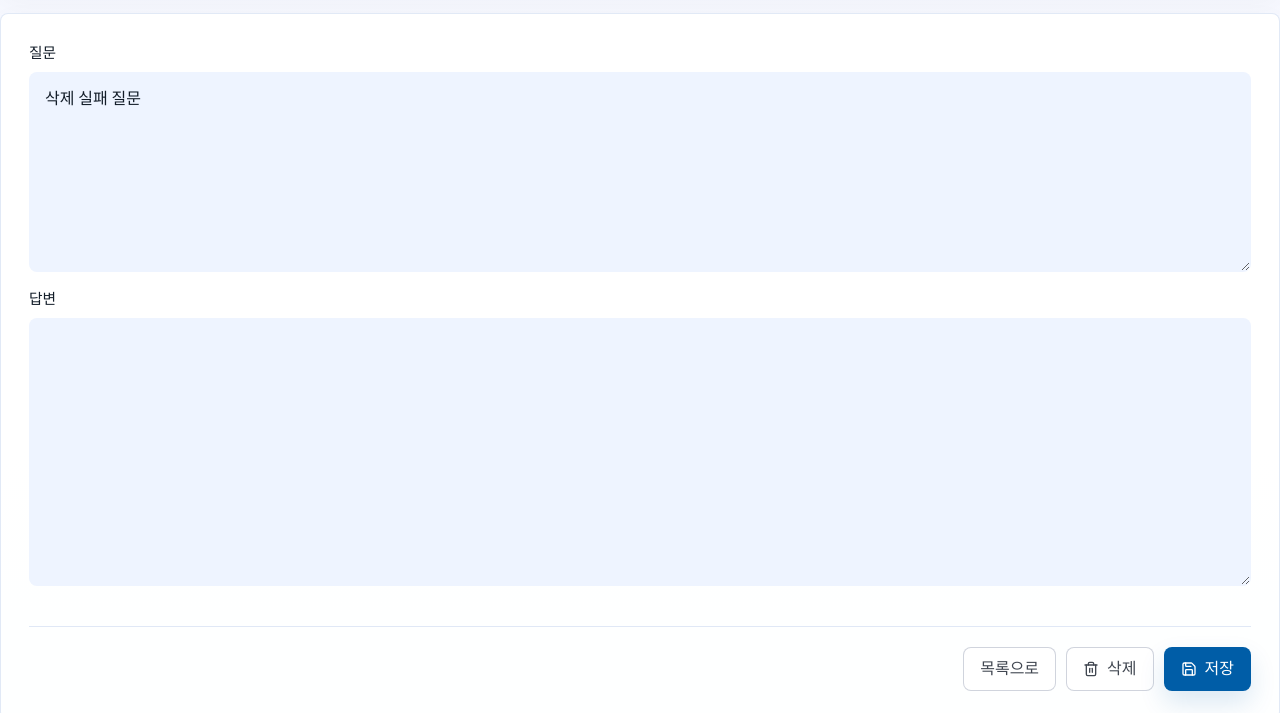
Scenario: AdminMemoDetailPage › should_show_error_message_when_delete_request_fails
The width and height of the screenshot is (1280, 713).
(page scrolled)
Click the button "삭제". click: (1110, 669)
box: x1=1066 y1=647 x2=1154 y2=691
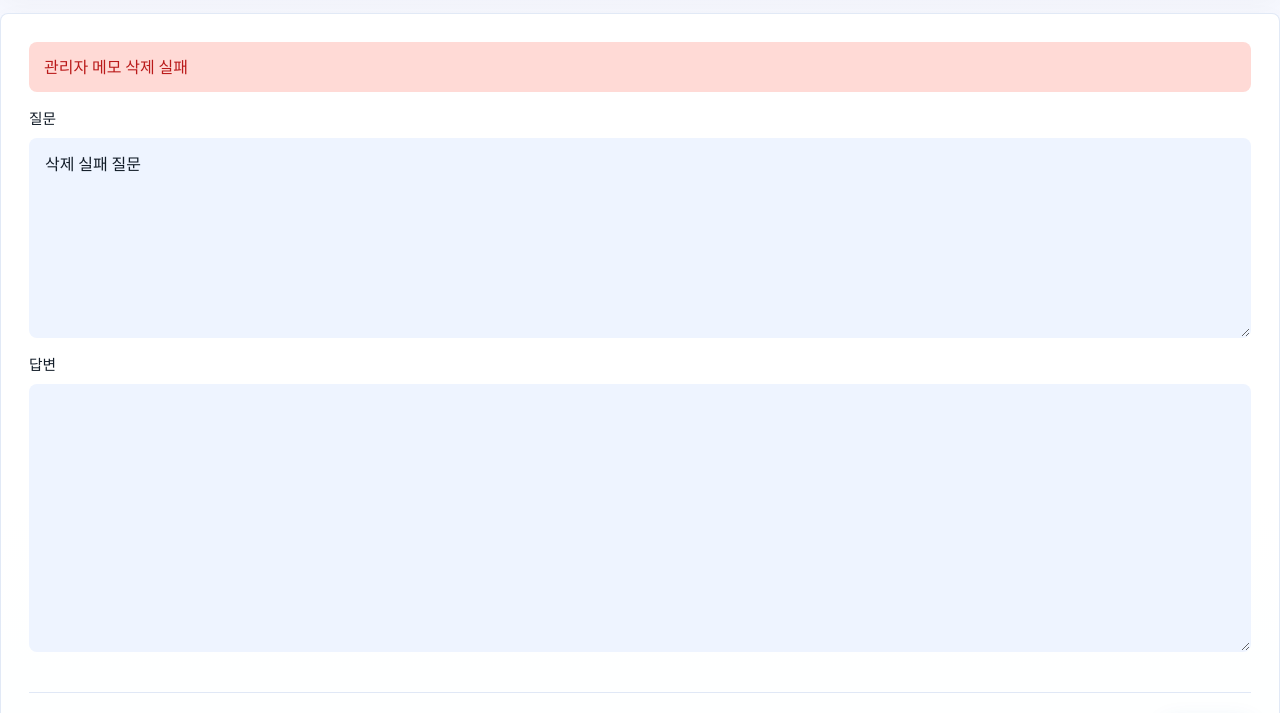
Now the text "관리자 메모 삭제 실패" is shown, box x1=29 y1=42 x2=1251 y2=92
